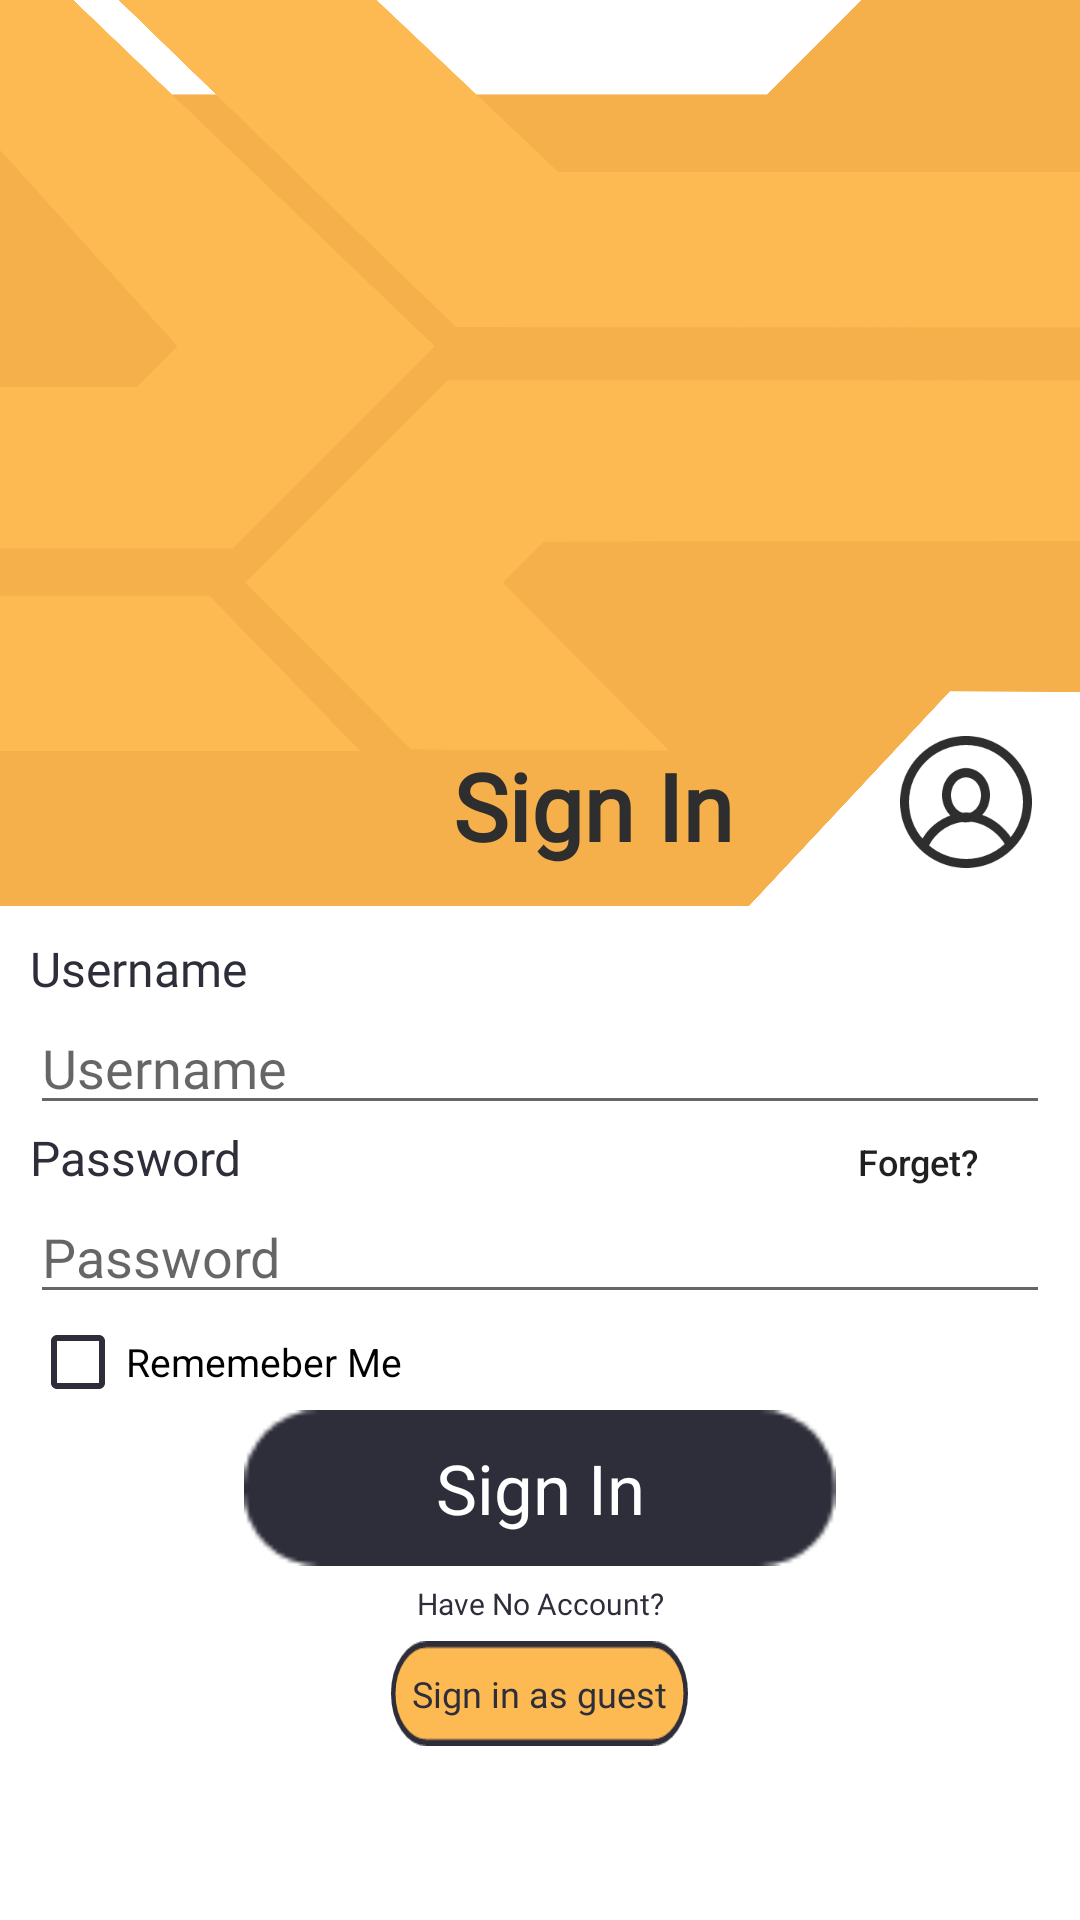

Icon bounding boxes for this 1080x1920 phone screenshot, format region(x1, y1, x2, y2):
login activity: region(900, 736, 1032, 868)
